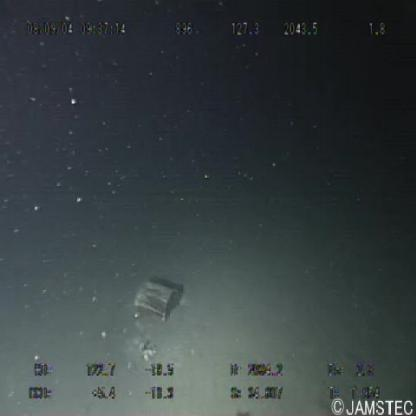Rác: (135, 276, 185, 324)
